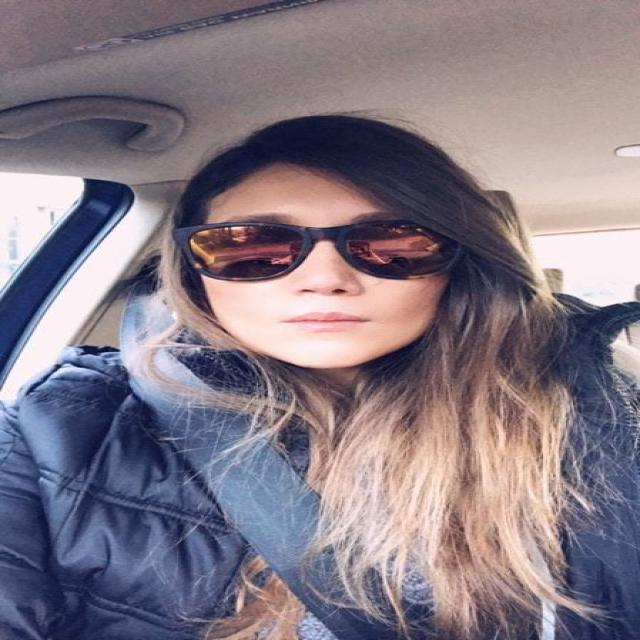2_gafas: (170, 218, 463, 282)
